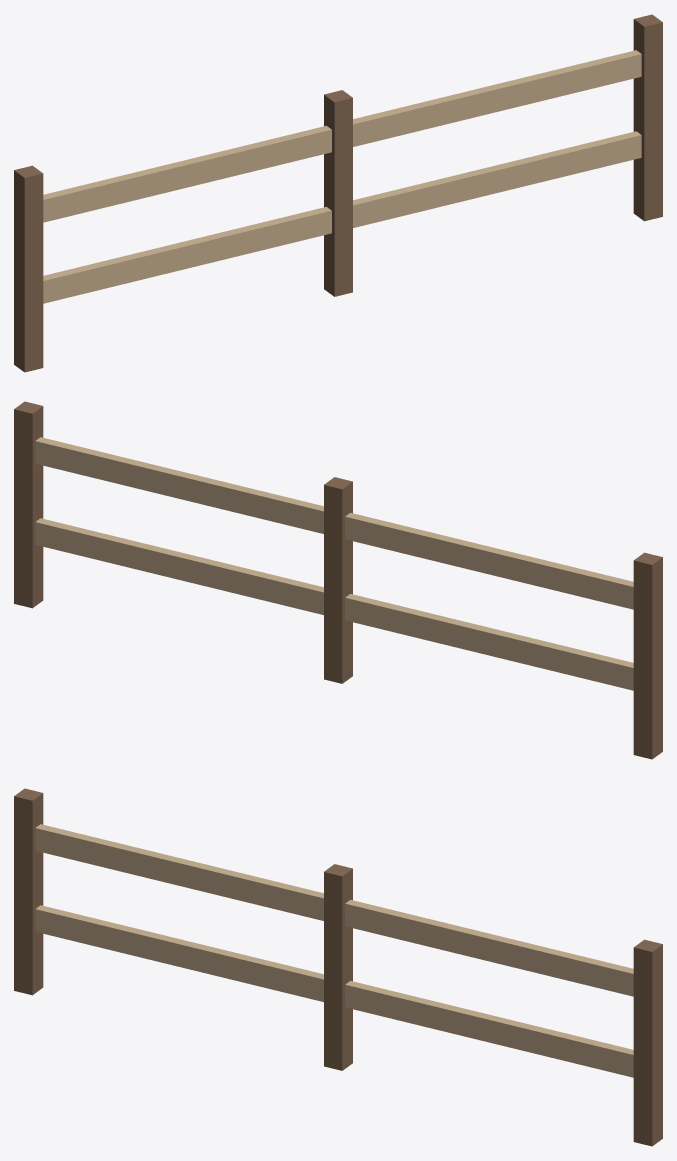
File: fence_wood.glb
3 renders of one model, top to bottom at view 1: azimuth 30°, elevation 25°; view 2: azimuth 150°, elevation 25°; view 3: azimuth 330°, elevation 25°, orthographic.
Parts seen in each view (by area): view 1: fence_wood; view 2: fence_wood; view 3: fence_wood.
Part boxes in pixels (x1,y1,x2,y2): fence_wood: [14, 14, 662, 372]; fence_wood: [14, 401, 662, 759]; fence_wood: [14, 788, 662, 1146].
Bounding box in the file's own units: 4.12 × 1.2 × 0.12.
